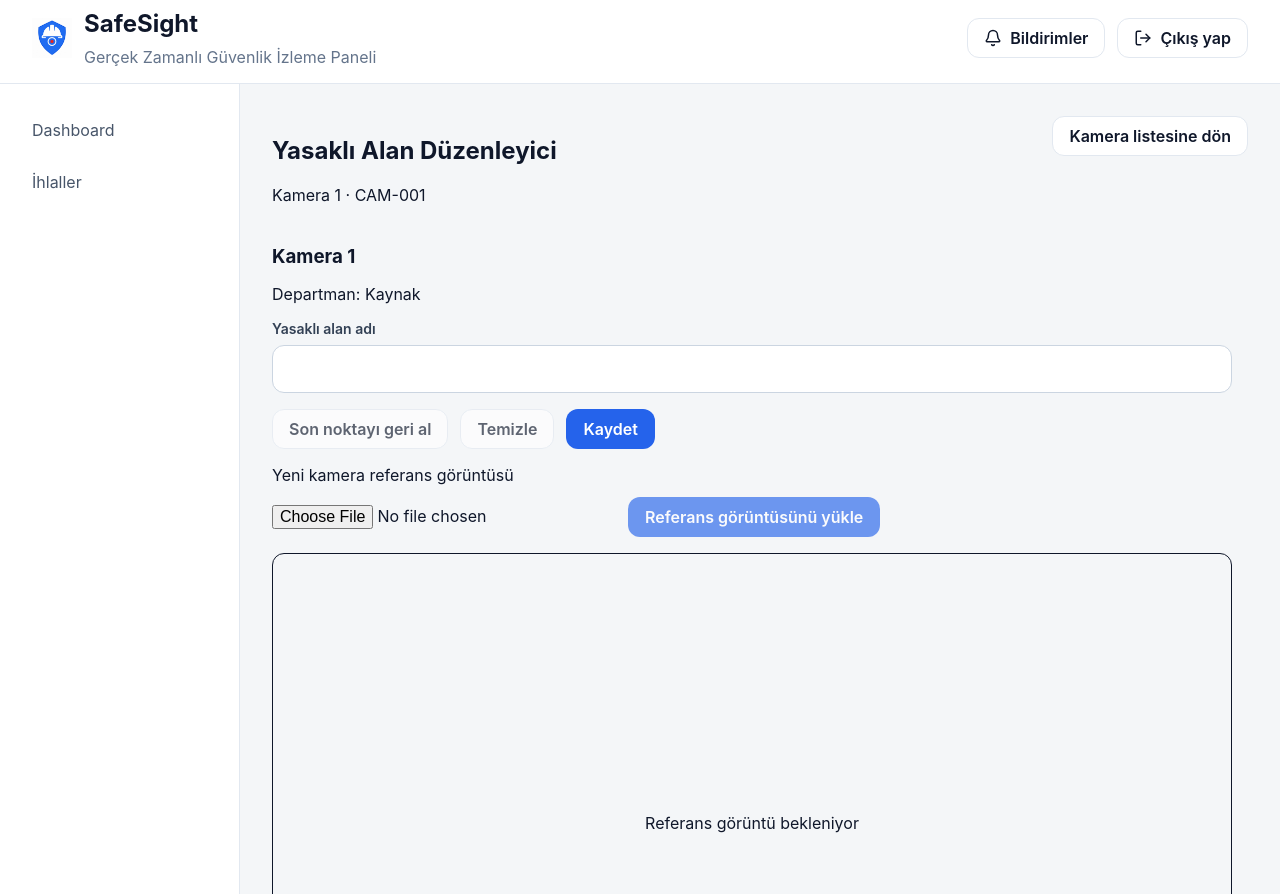
Scenario: RestrictedZoneEditorPage › requires a restricted zone name before saving
Click the button "Kaydet" at (611, 429), box [566, 409, 655, 449]
(page scrolled)
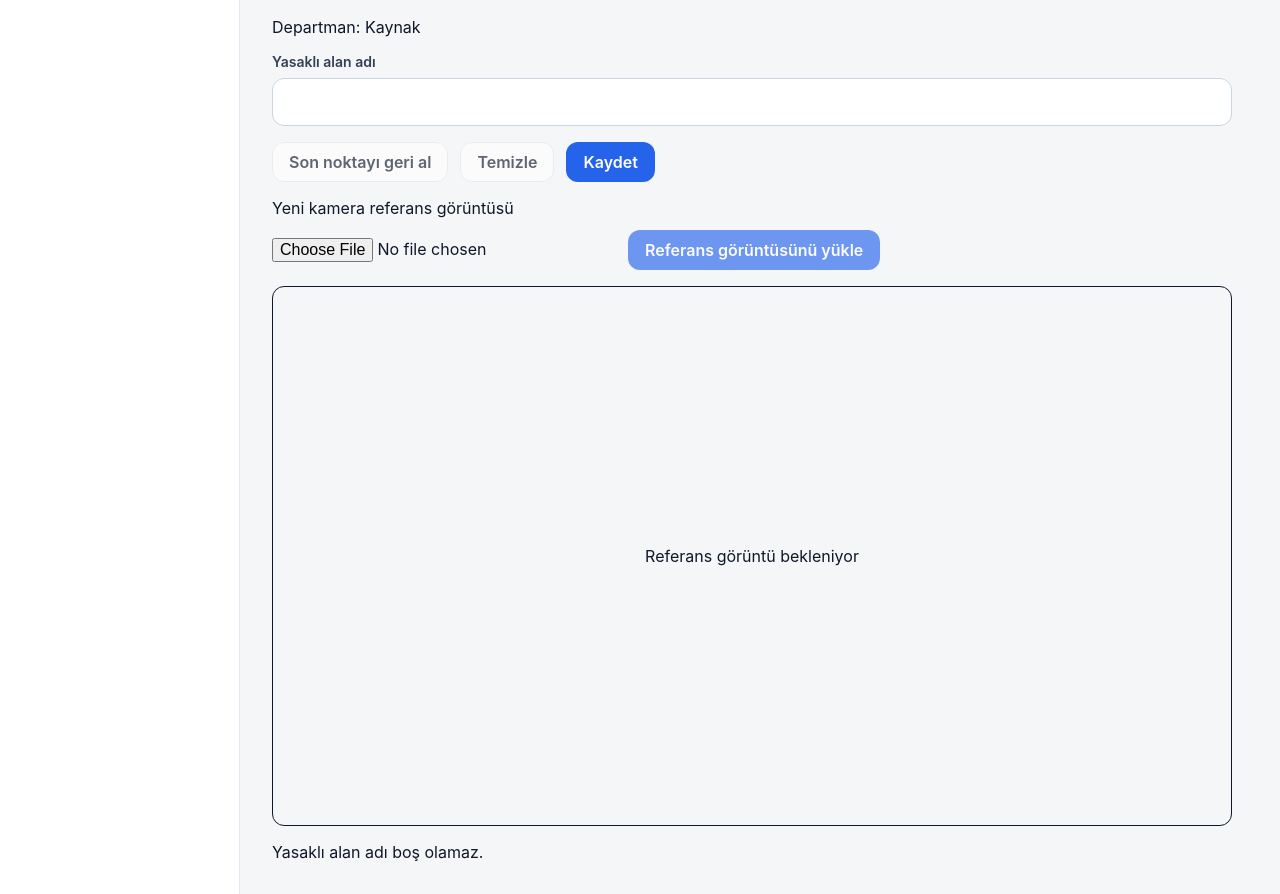
Expected: the message reads "Yasaklı alan adı boş olamaz.", [272, 842, 483, 862]
